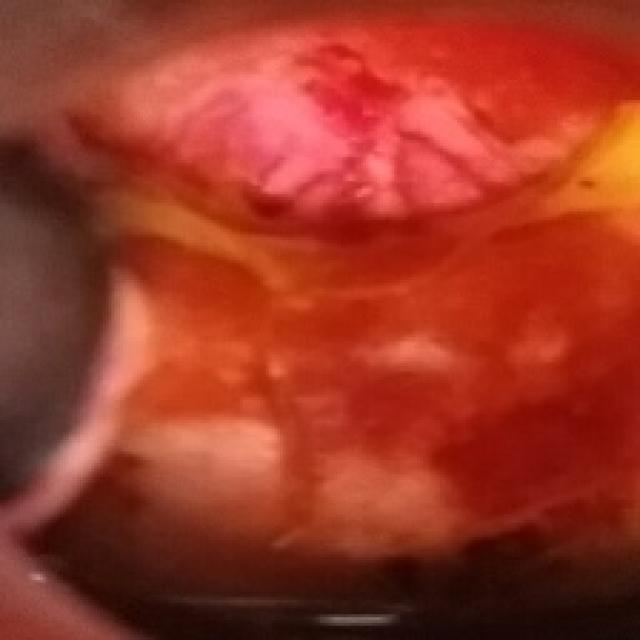type-3: (48, 7, 628, 535)
